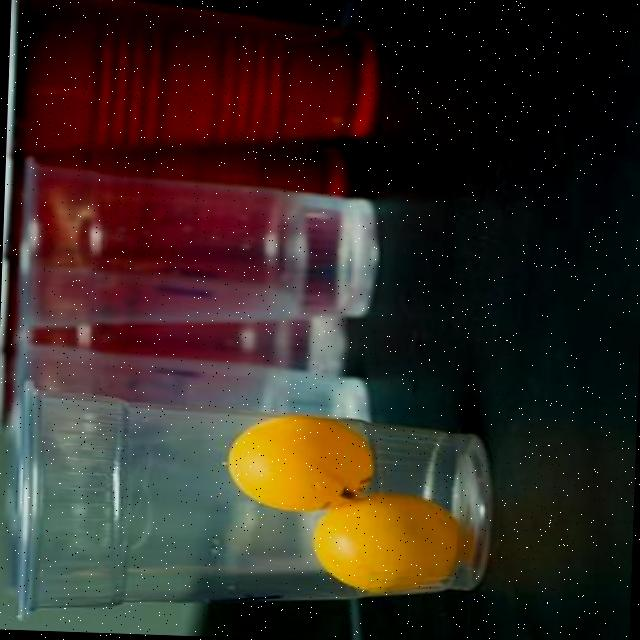ping-pong-ball: (312, 488, 471, 592), (226, 412, 376, 514)
